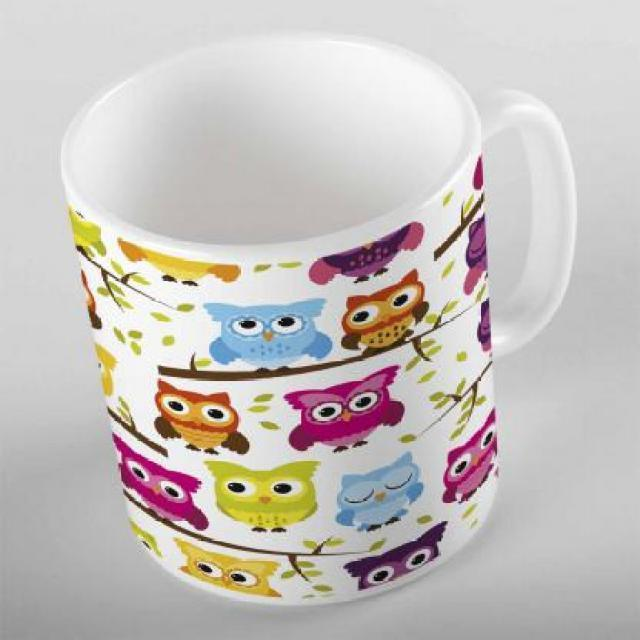taza: (61, 30, 578, 610)
